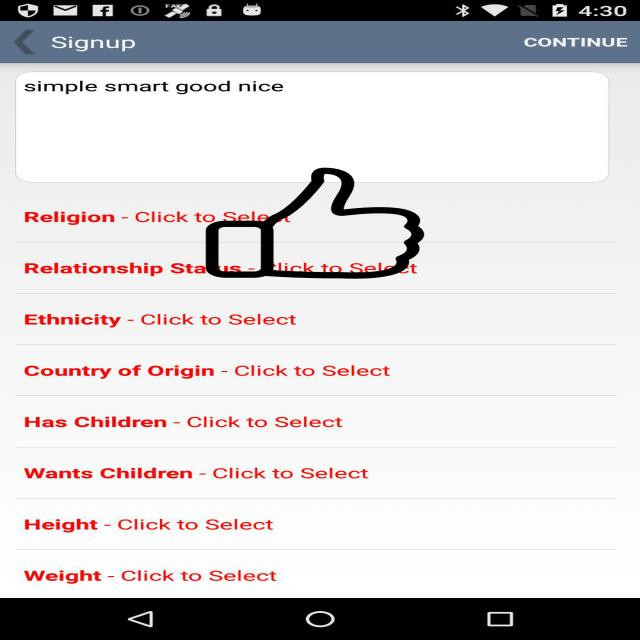privacy zuckering: (203, 168, 427, 278)
